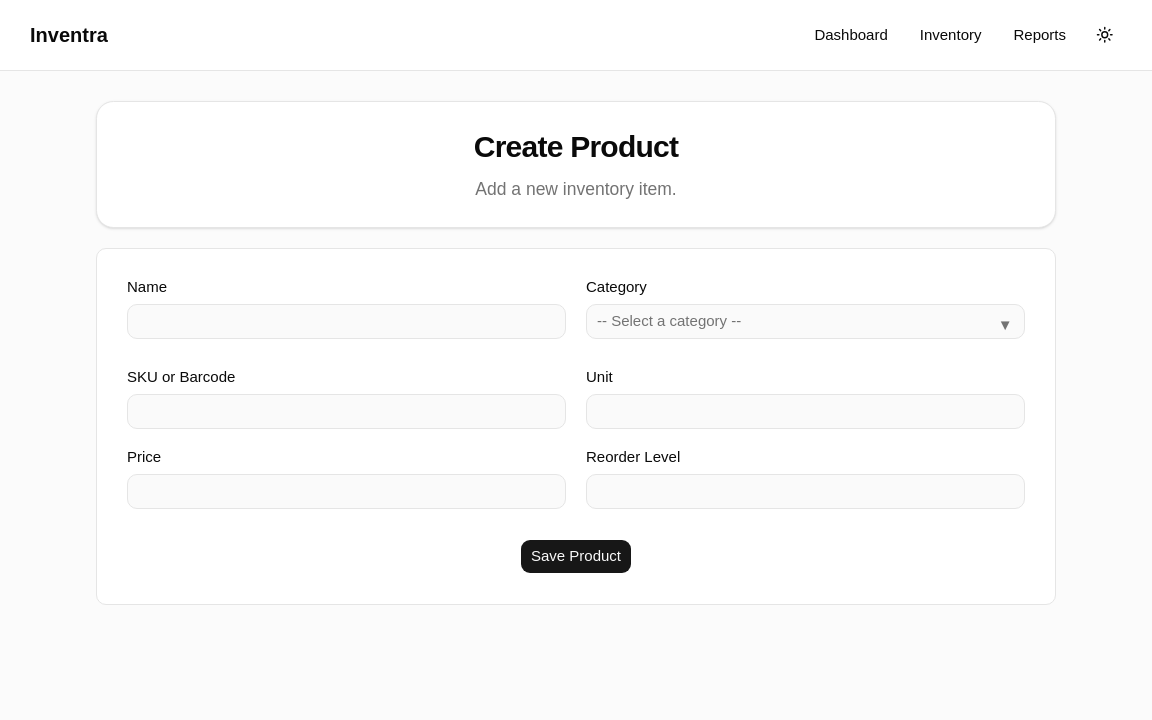
Product Create Page Tests › requires name, category and unit to submit
Click the button "Save Product" at {"x": 576, "y": 556}, box [520,539,632,574]
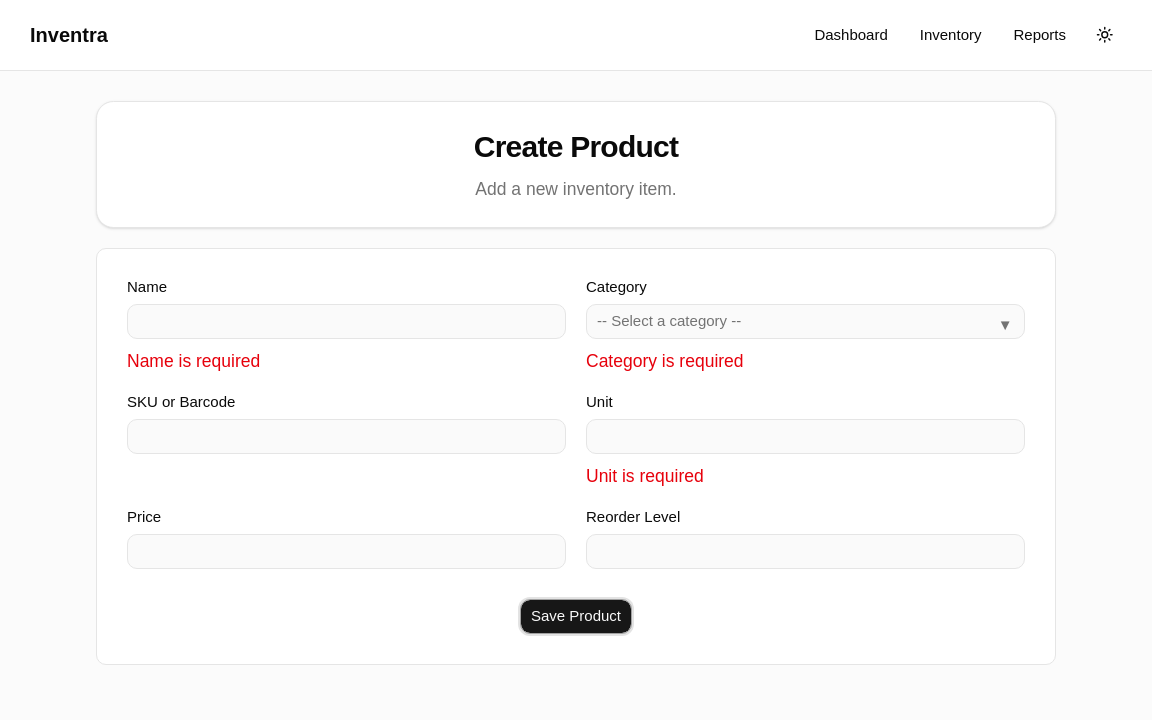
Now the text "Name is required" is shown, box [127,351,260,371]
Now the text "Category is required" is shown, box [586,351,744,371]
Now the text "Unit is required" is shown, box [586,466,704,486]
